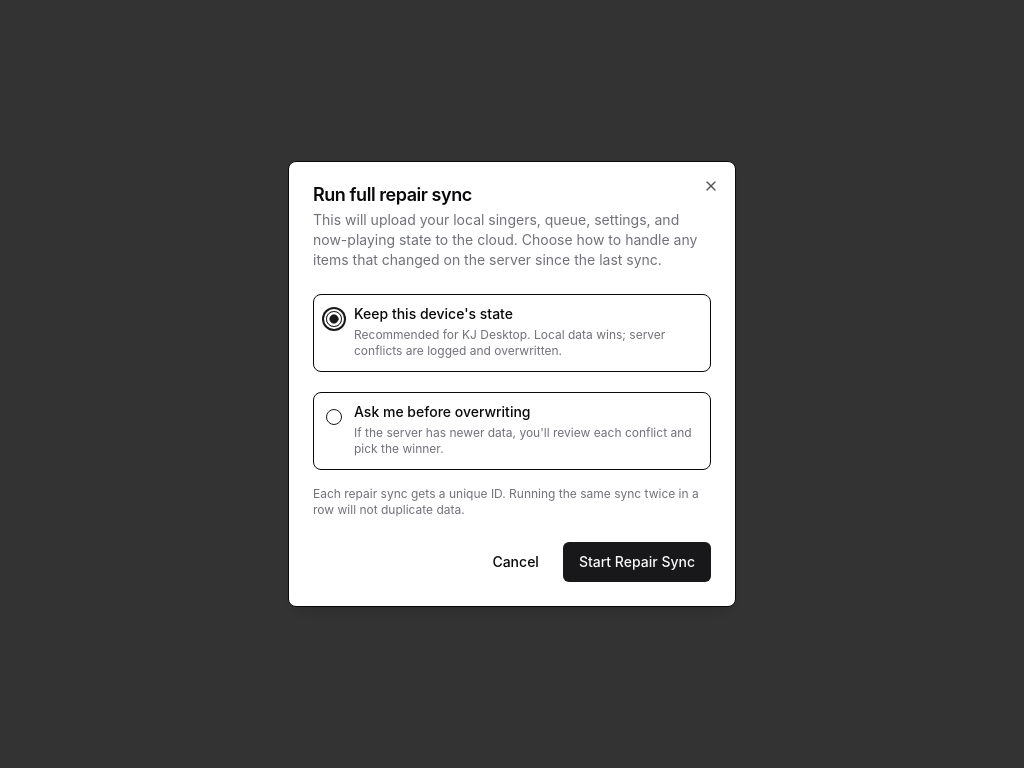
Test: RepairSyncDialog › shows the conflict resolution prompt in prompt mode and resolves per-field merge
Click the text "Ask me before overwriting".
click(442, 412)  # box top-left (354, 403), bottom-right (530, 420)
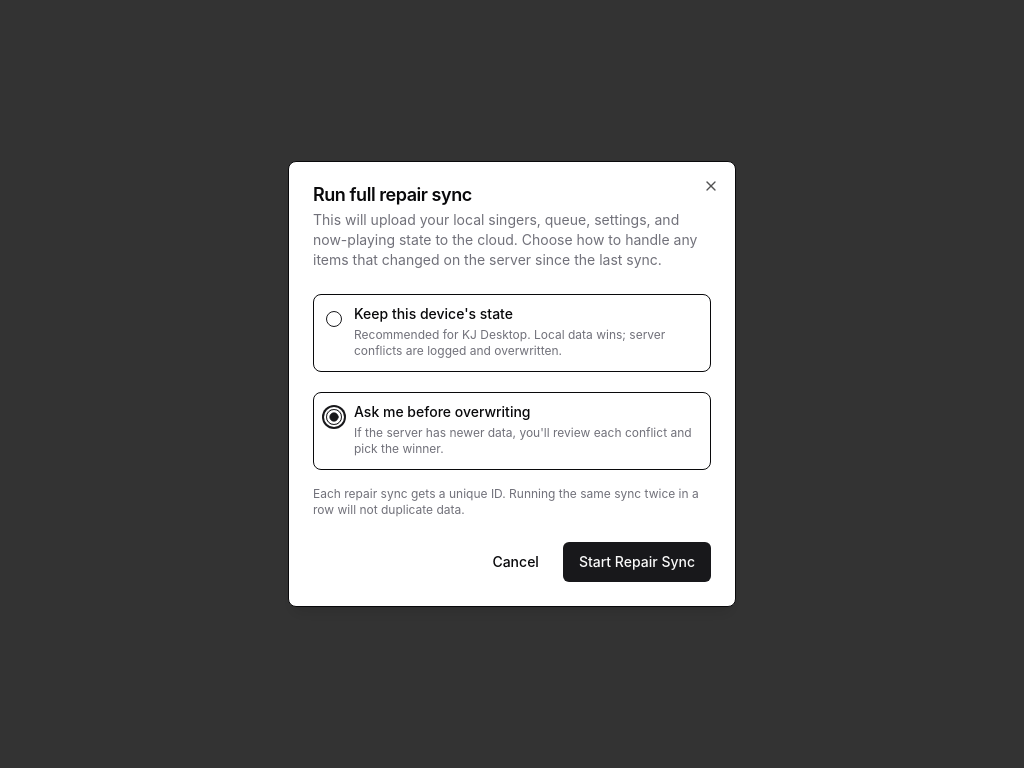
Click the button "Start Repair Sync".
click(637, 562)  # box top-left (563, 542), bottom-right (711, 582)
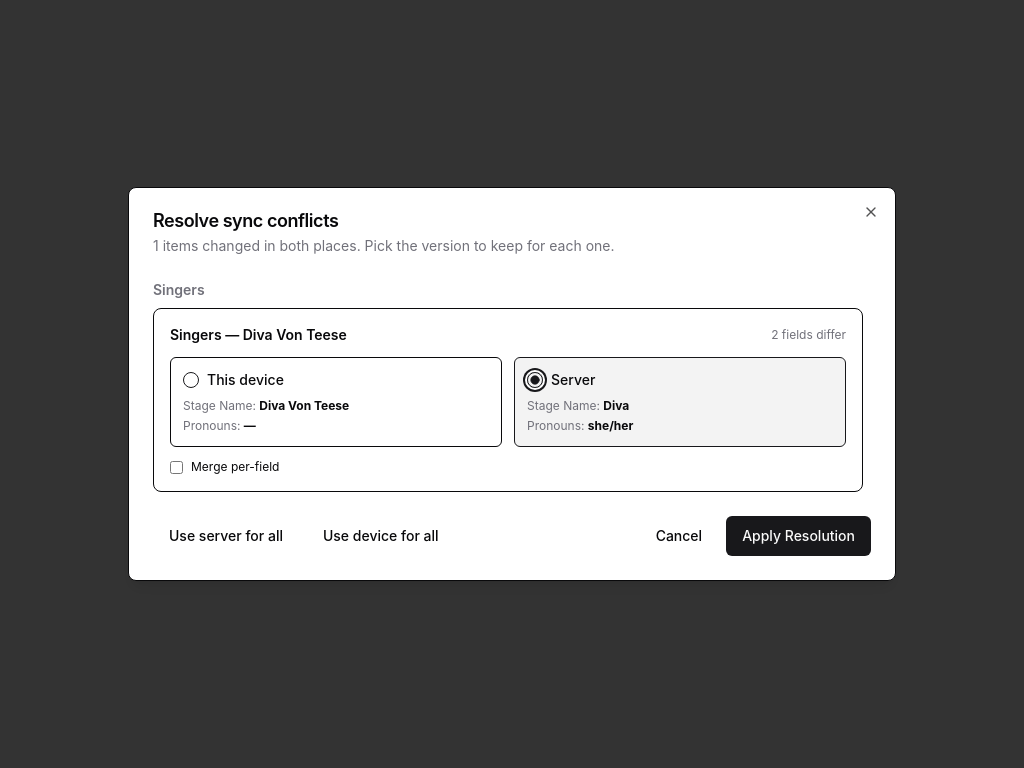
Now the heading "Resolve sync conflicts" is shown, box top-left (153, 210), bottom-right (338, 231)
# Enable merge mode for the singer conflict
Click the checkbox labelled "Merge per-field".
click(176, 467)  # box top-left (170, 460), bottom-right (183, 474)
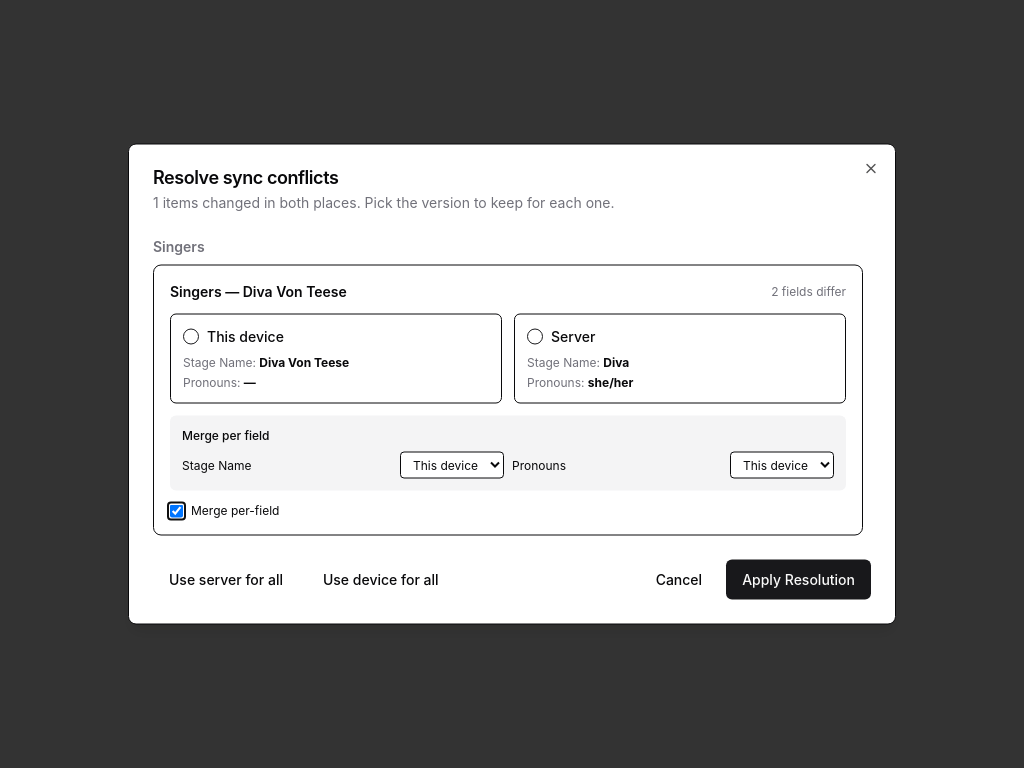
Select "This device" in the dropdown named "Choose side for" at [452, 465], box top-left (400, 452), bottom-right (504, 478)
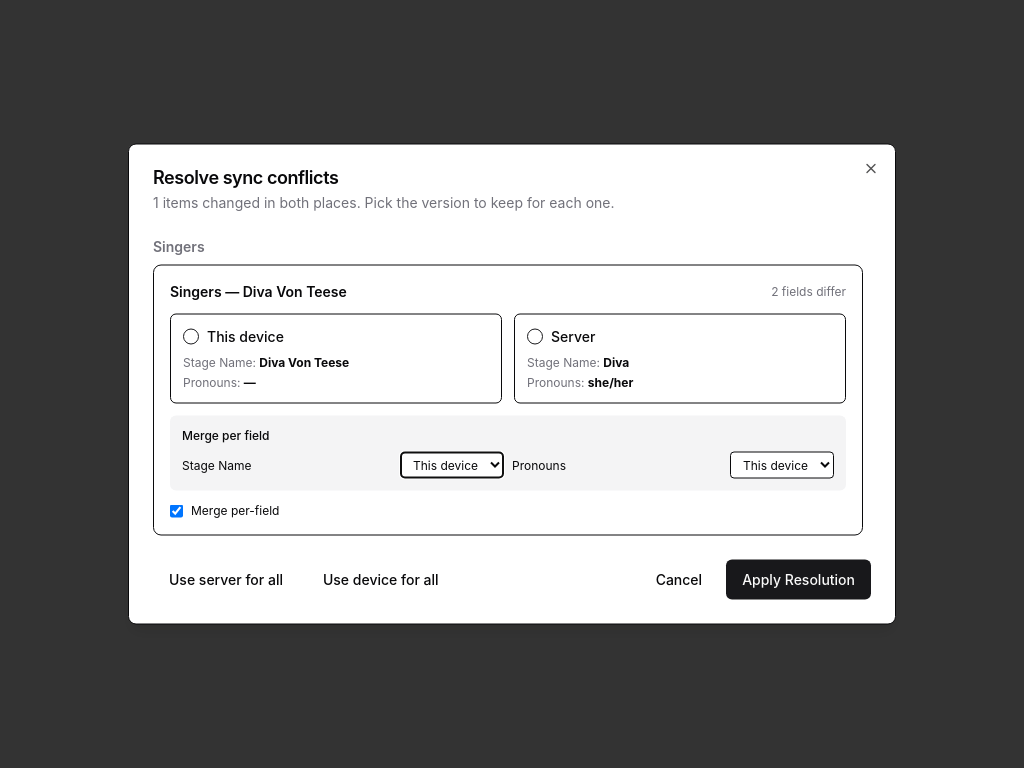
Select "Server" in the dropdown named "Choose side for" at [782, 465], box top-left (730, 452), bottom-right (834, 478)
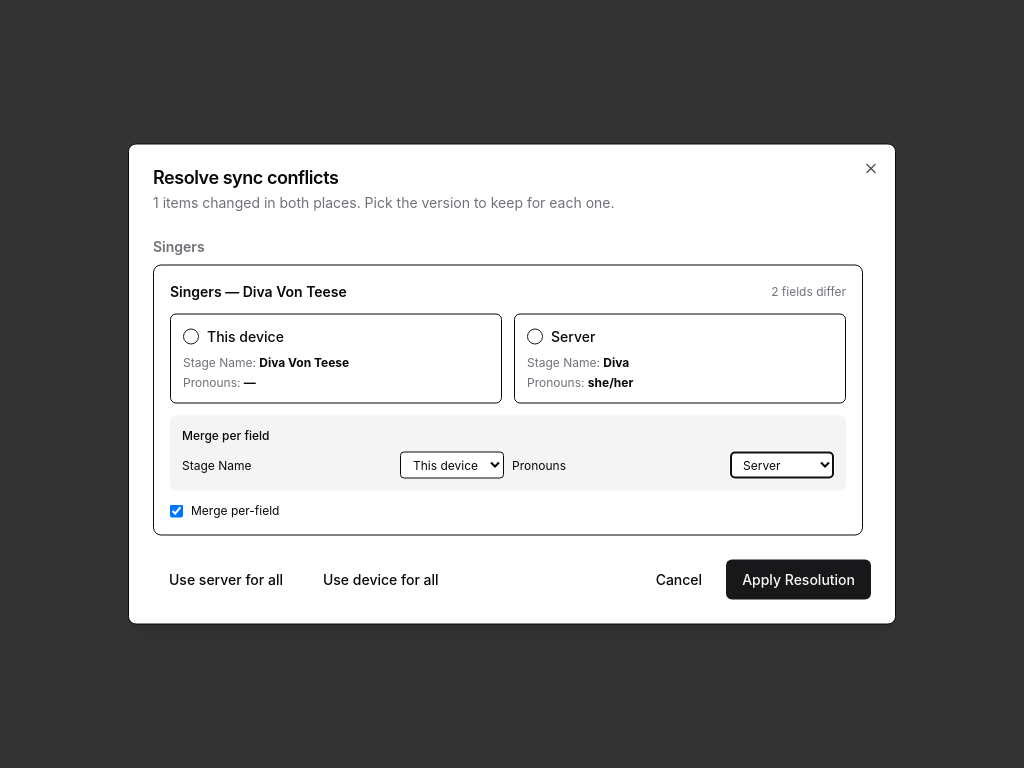
Click the button "Apply Resolution".
click(799, 580)  # box top-left (726, 560), bottom-right (871, 600)
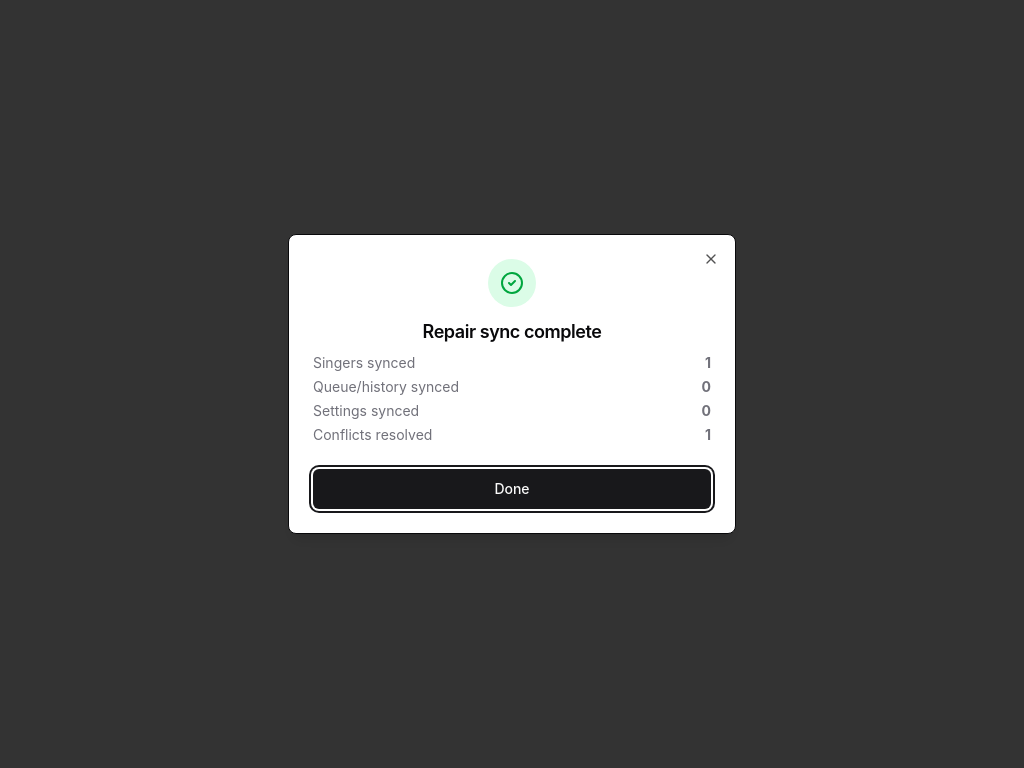
Now the heading "Repair sync complete" is shown, box top-left (423, 323), bottom-right (602, 341)
